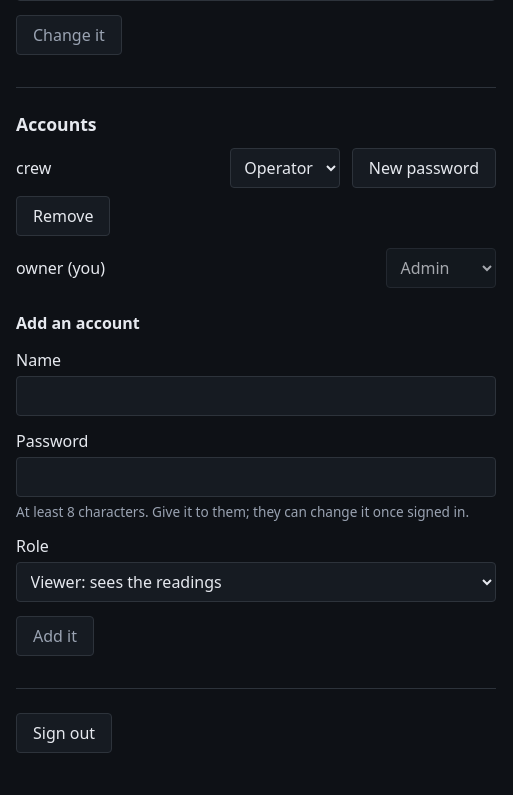
Scenario: the account page › lets an admin see and add accounts, but not change their own role
(page scrolled)
Expected: the number of list items is 2, [16, 148, 496, 236]; [16, 248, 496, 288]
Expected: the dropdown named "Role of owner" in the row of "(you)" is disabled, [386, 248, 496, 288]
In the field labelled "Name": (256, 396) [16, 376, 496, 416], type "guest"
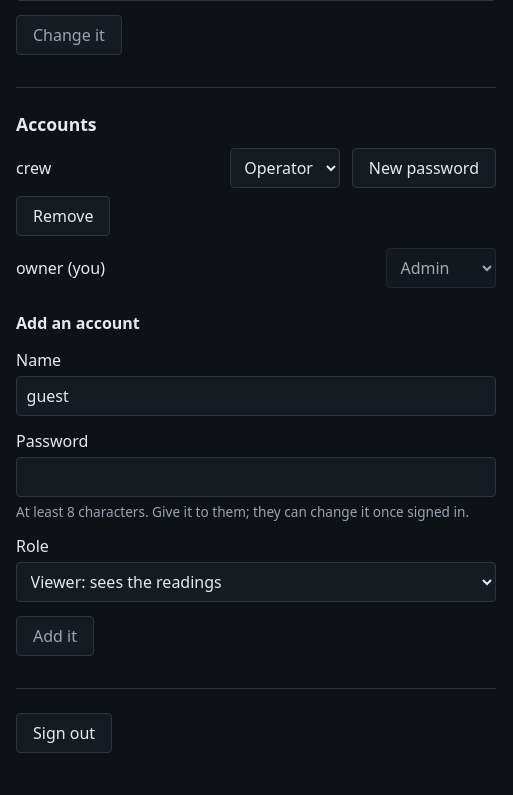
In the password field labelled "Password": (256, 477) [16, 457, 496, 497], type "correct horse"
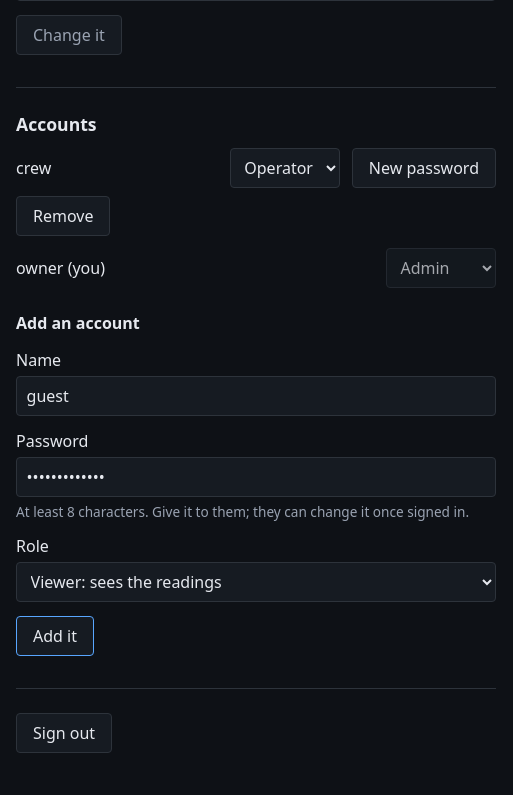
Click the button "Add it": (55, 636) [16, 616, 94, 656]
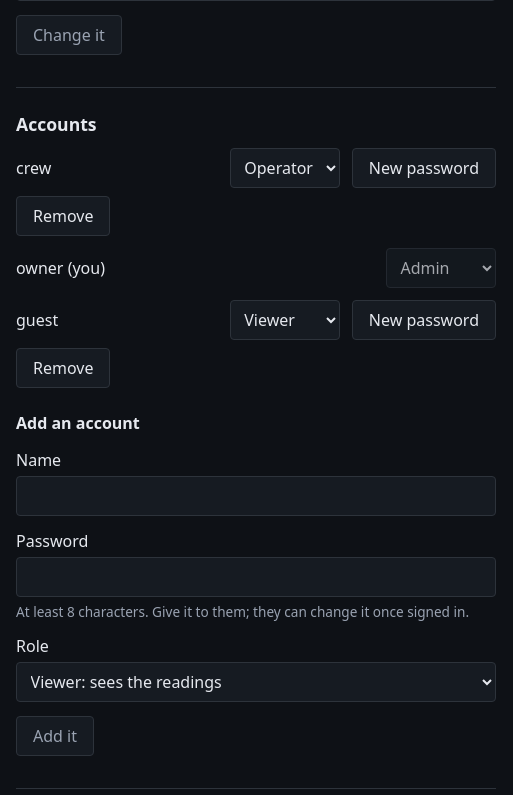
Result: the text "guest" is shown at [16, 309, 58, 331]
